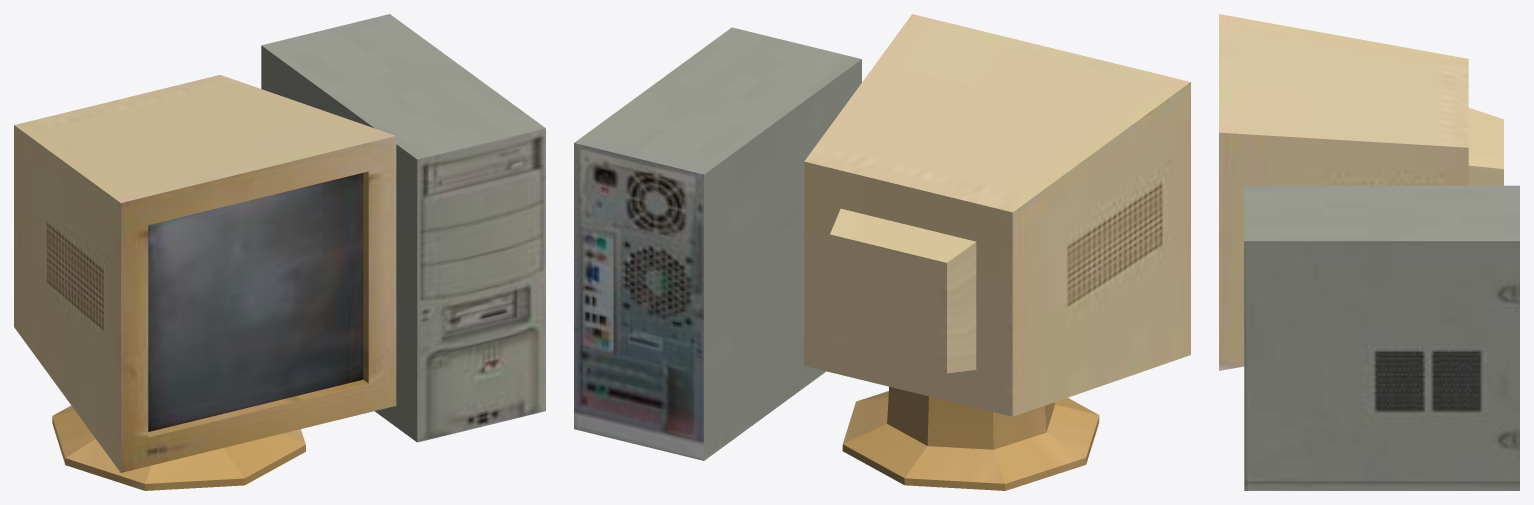
The picture shows the model from 3 angles, left to right: view 1: azimuth 30°, elevation 25°; view 2: azimuth 150°, elevation 25°; view 3: azimuth 270°, elevation 25°; orthographic projection. The views are drawn at different scales.
Parts seen in each view (by area): view 1: Handler; view 2: Handler; view 3: Handler.
Part boxes in pixels (left/top/right/bottom): Handler: left=14, top=14, right=545, bottom=490; Handler: left=574, top=14, right=1190, bottom=490; Handler: left=1219, top=14, right=1519, bottom=490.
Bounding box in the file's own units: 0.6821 × 0.4838 × 0.458.
Materials: 1 (1 with a texture image).
